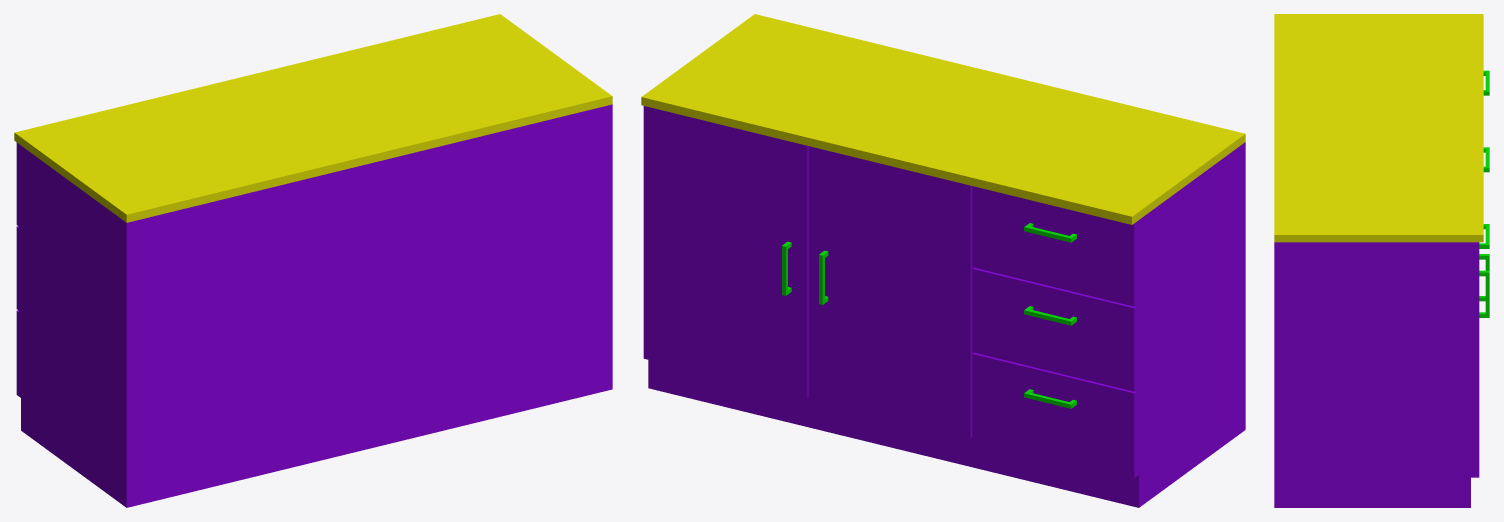
The model's file is OM_1BHK_Kitchen_Cabinates_02.fbx.
3 views of the same model, side by side, from view 1: azimuth 30°, elevation 25°; view 2: azimuth 150°, elevation 25°; view 3: azimuth 270°, elevation 25° (orthographic). The views are drawn at different scales.
Visible parts, largest first — view 1: OM_1BHK_Kitchen_Cabinates_02_Maincage, OM_1BHK_Kitchen_Cabinates_02_Topmarble, OM_1BHK_Kitchen_Cabinates_02_Doors; view 2: OM_1BHK_Kitchen_Cabinates_02_Doors, OM_1BHK_Kitchen_Cabinates_02_Topmarble, OM_1BHK_Kitchen_Cabinates_02_Maincage, OM_1BHK_Kitchen_Cabinates_02_Hadles; view 3: OM_1BHK_Kitchen_Cabinates_02_Maincage, OM_1BHK_Kitchen_Cabinates_02_Topmarble, OM_1BHK_Kitchen_Cabinates_02_Doors, OM_1BHK_Kitchen_Cabinates_02_Hadles.
Boxes of the visible parts, x1,y1,x2,y2 form: OM_1BHK_Kitchen_Cabinates_02_Maincage: (19,104,612,507); OM_1BHK_Kitchen_Cabinates_02_Topmarble: (14,14,612,222); OM_1BHK_Kitchen_Cabinates_02_Doors: (16,142,18,396); OM_1BHK_Kitchen_Cabinates_02_Doors: (643,106,1136,478); OM_1BHK_Kitchen_Cabinates_02_Topmarble: (641,14,1245,224); OM_1BHK_Kitchen_Cabinates_02_Maincage: (648,142,1245,507); OM_1BHK_Kitchen_Cabinates_02_Hadles: (782,223,1076,408); OM_1BHK_Kitchen_Cabinates_02_Maincage: (1274,242,1474,507); OM_1BHK_Kitchen_Cabinates_02_Topmarble: (1274,14,1483,242); OM_1BHK_Kitchen_Cabinates_02_Doors: (1475,242,1479,477); OM_1BHK_Kitchen_Cabinates_02_Hadles: (1479,70,1489,317).
Size of the model in its own units: 5.2 by 3 by 2.15.
